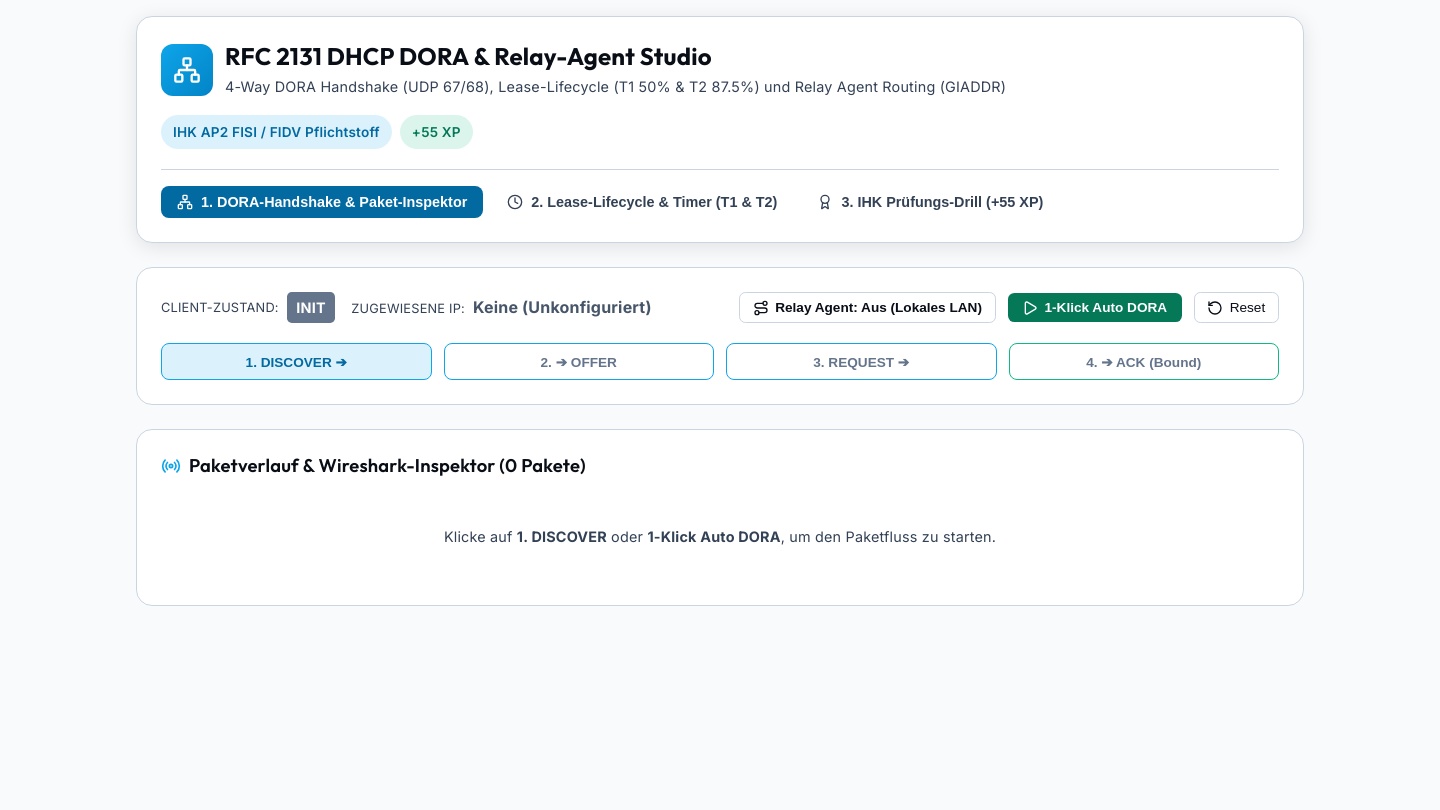
Scenario: DhcpDoraLab: DORA-Handshake › zeigt im Paket-Inspektor die UDP-Ports 68 ➔ 67 und 67 ➔ 68
The image size is (1440, 810).
Click the button "1-Klick Auto DORA". click: {"x": 1095, "y": 308}
box: [1008,293,1182,322]
(page scrolled)
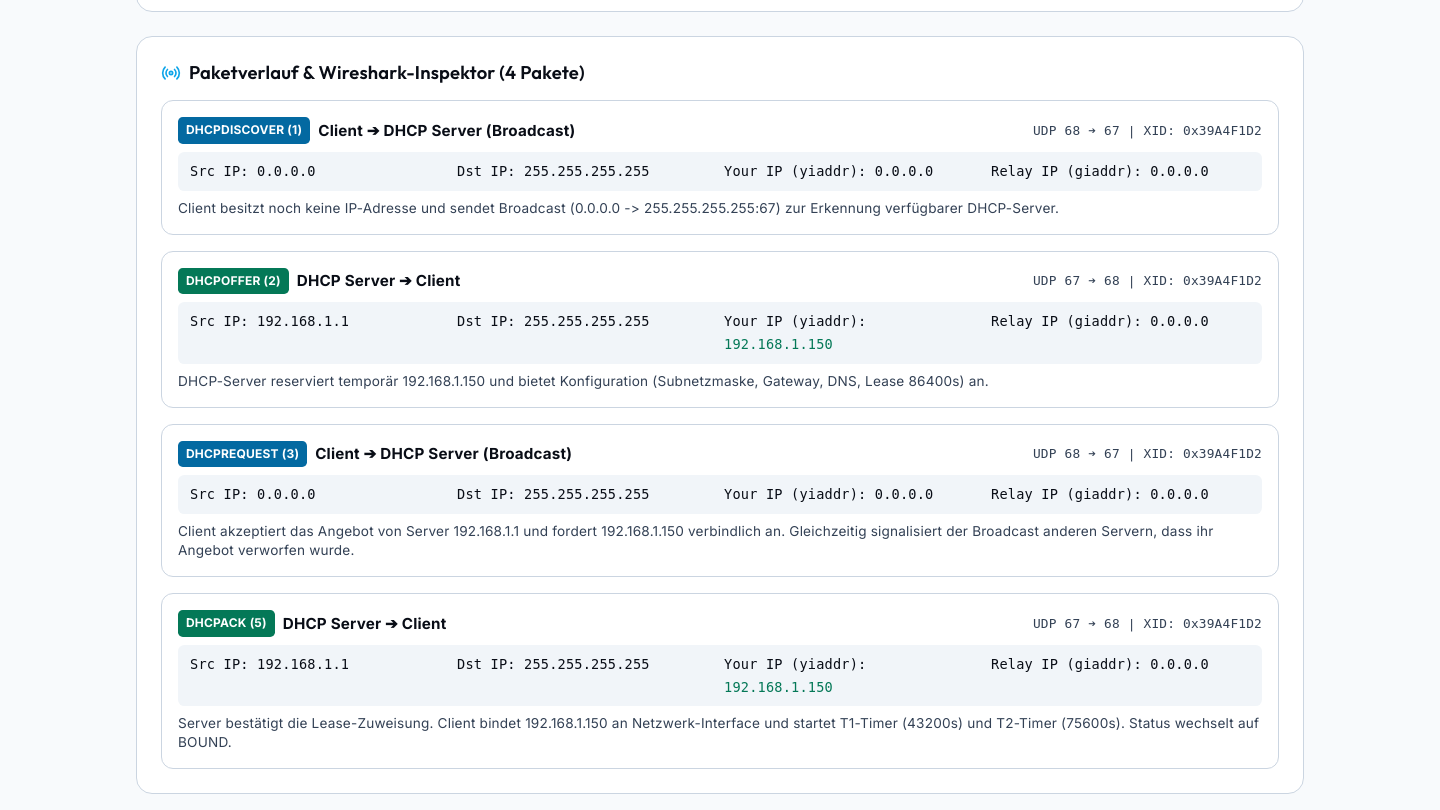
Now the text "DHCPDISCOVER (1)" is shown, box [178,117,310,144]
Now the text "DHCPOFFER (2)" is shown, box [178,268,289,294]
Now the text "DHCPREQUEST (3)" is shown, box [178,441,307,467]
